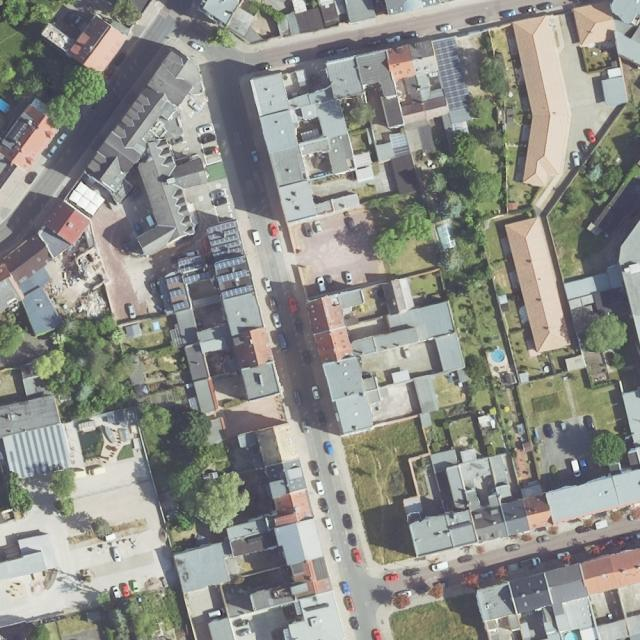PV: (206, 221, 251, 298), (432, 37, 471, 111), (178, 255, 203, 272), (183, 272, 210, 284), (174, 300, 190, 312), (170, 288, 185, 297), (167, 275, 182, 284)
ST: (248, 535, 266, 545)
